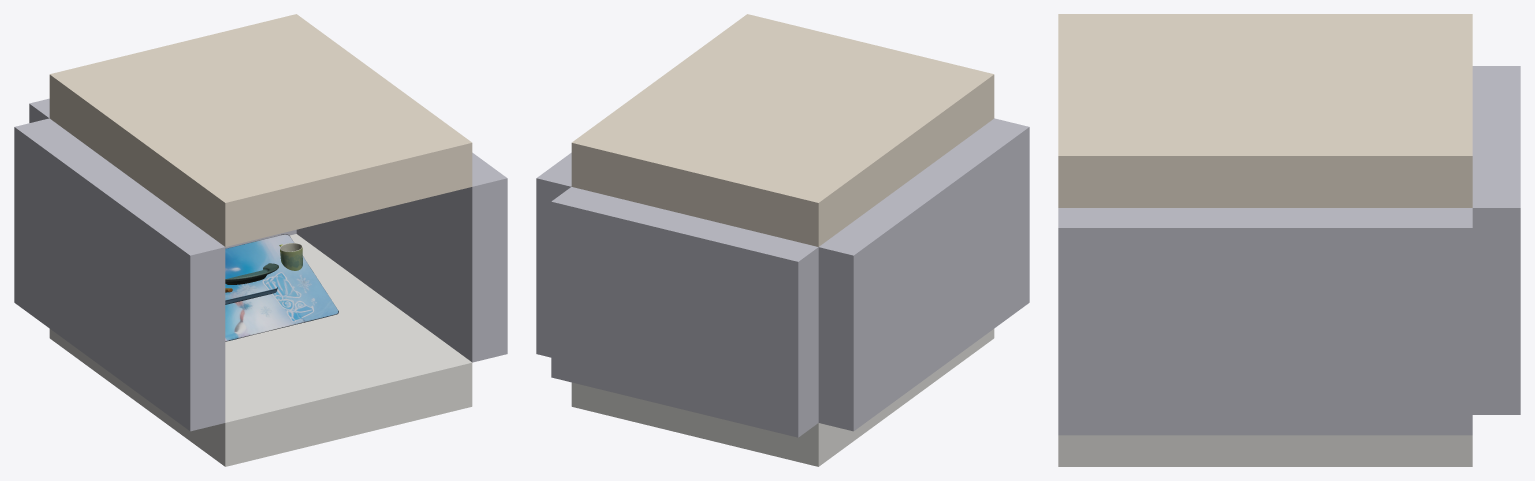
The picture shows the model from 3 angles, left to right: view 1: azimuth 30°, elevation 25°; view 2: azimuth 150°, elevation 25°; view 3: azimuth 270°, elevation 25°; orthographic projection. The views are drawn at different scales.
Parts seen in each view (by area): view 1: Ceiling, Wall_03, Floor, Wall_01, world.005, Wall_02, world, world.002; view 2: Ceiling, Wall_02, Wall_03, Floor, Wall_01; view 3: Wall_01, Ceiling, Wall_02, Floor.
Part boxes in pixels (box(x1,y1,x2,y2)): Ceiling: box(49, 14, 472, 246); Wall_03: box(14, 118, 225, 431); Floor: box(49, 234, 472, 466); Wall_01: box(296, 152, 507, 362); world.005: box(225, 234, 338, 341); Wall_02: box(29, 98, 296, 248); world: box(279, 243, 302, 270); world.002: box(225, 263, 278, 284); Ceiling: box(571, 14, 994, 246); Wall_02: box(551, 187, 818, 437); Wall_03: box(818, 118, 1029, 431); Floor: box(571, 329, 994, 466); Wall_01: box(536, 152, 571, 357); Wall_01: box(1058, 208, 1472, 435); Ceiling: box(1058, 14, 1472, 207); Wall_02: box(1472, 66, 1520, 414); Floor: box(1058, 435, 1472, 466).
Size of the model in its own units: 2.26 by 1.8 by 2.42.
Materials: 15 (12 with a texture image).
